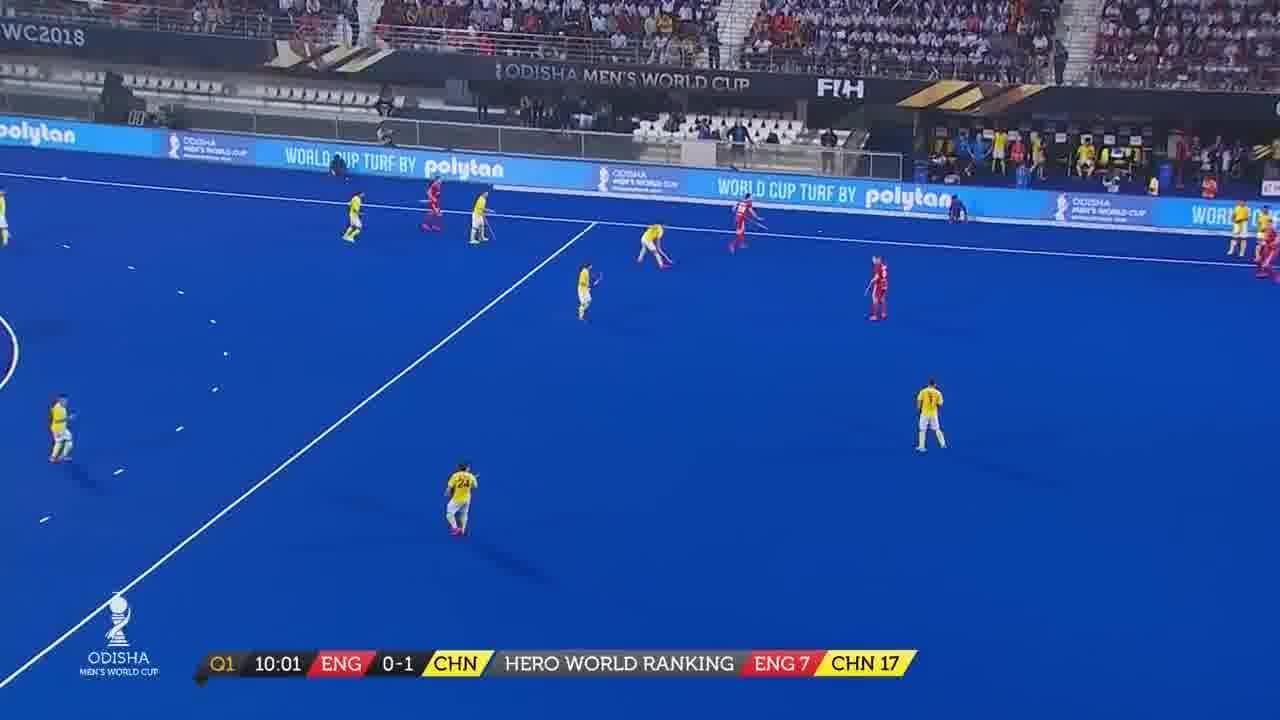ball: (814, 226, 828, 234)
